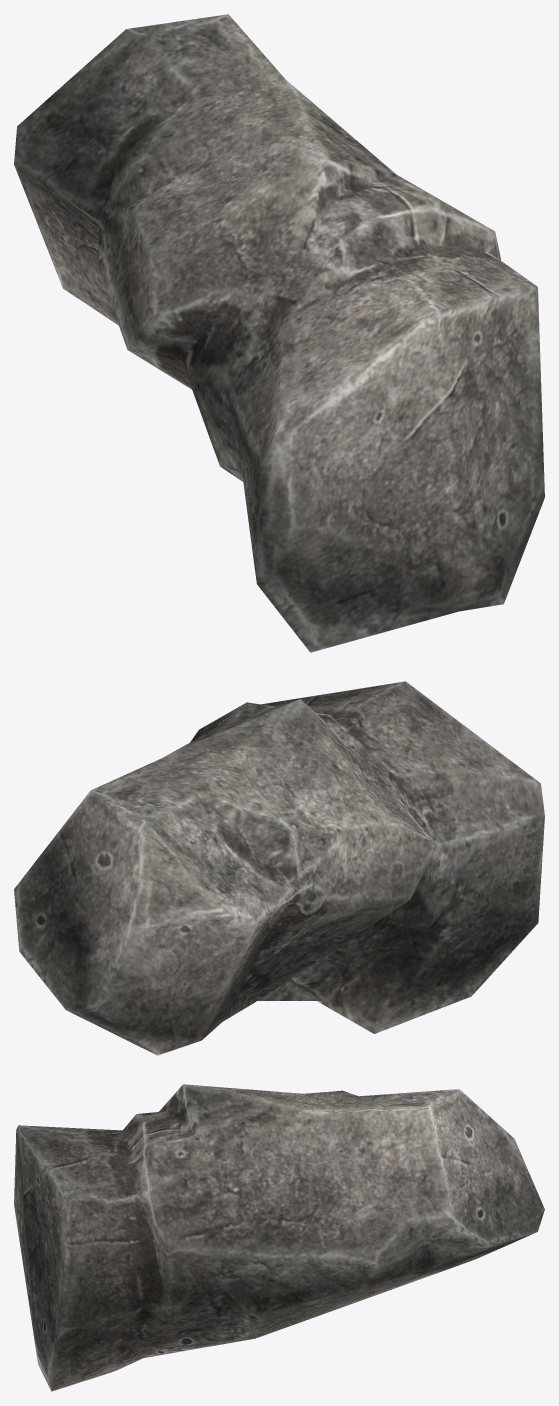
Rendered from piece.obj.
3 views of the same model, one above another, from view 1: azimuth 30°, elevation 25°; view 2: azimuth 150°, elevation 25°; view 3: azimuth 270°, elevation 25° (orthographic). The views are drawn at different scales.
Visible parts, largest first — view 1: Rock5; view 2: Rock5; view 3: Rock5.
Part boxes in pixels (bbox=[...]): Rock5: bbox=[14, 14, 544, 652]; Rock5: bbox=[14, 681, 544, 1055]; Rock5: bbox=[14, 1084, 544, 1391].
Size of the model in its own units: 0.1808 by 0.2105 by 0.3369.
1 material, 1 textured.
